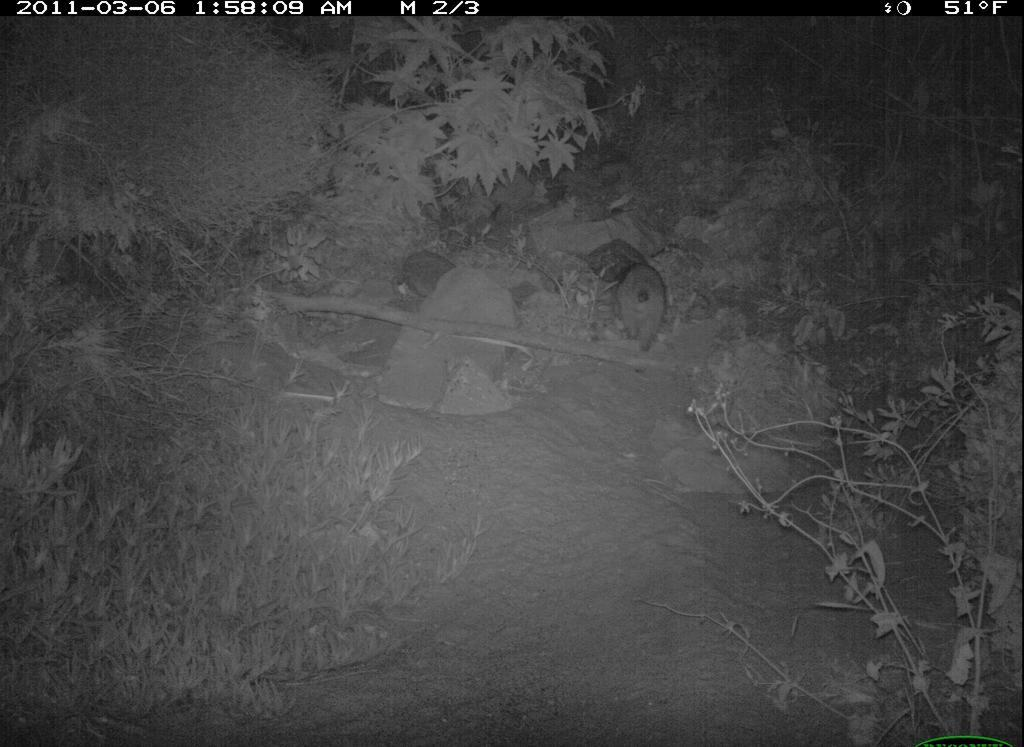raccoon: (609, 258, 673, 364)
